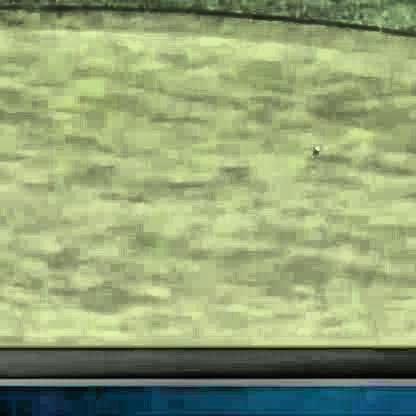golfball: (308, 146, 319, 153)
